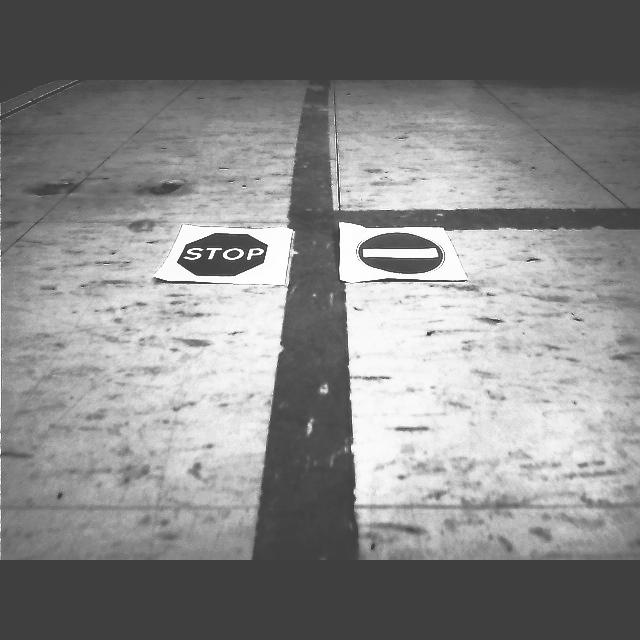NO ENTRY: (357, 232, 447, 276)
STOP: (179, 233, 267, 276)
